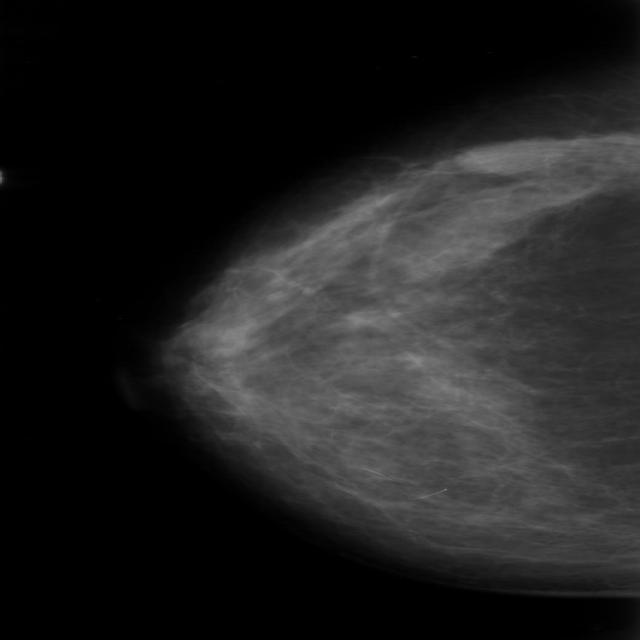tumour: (452, 137, 576, 175)
